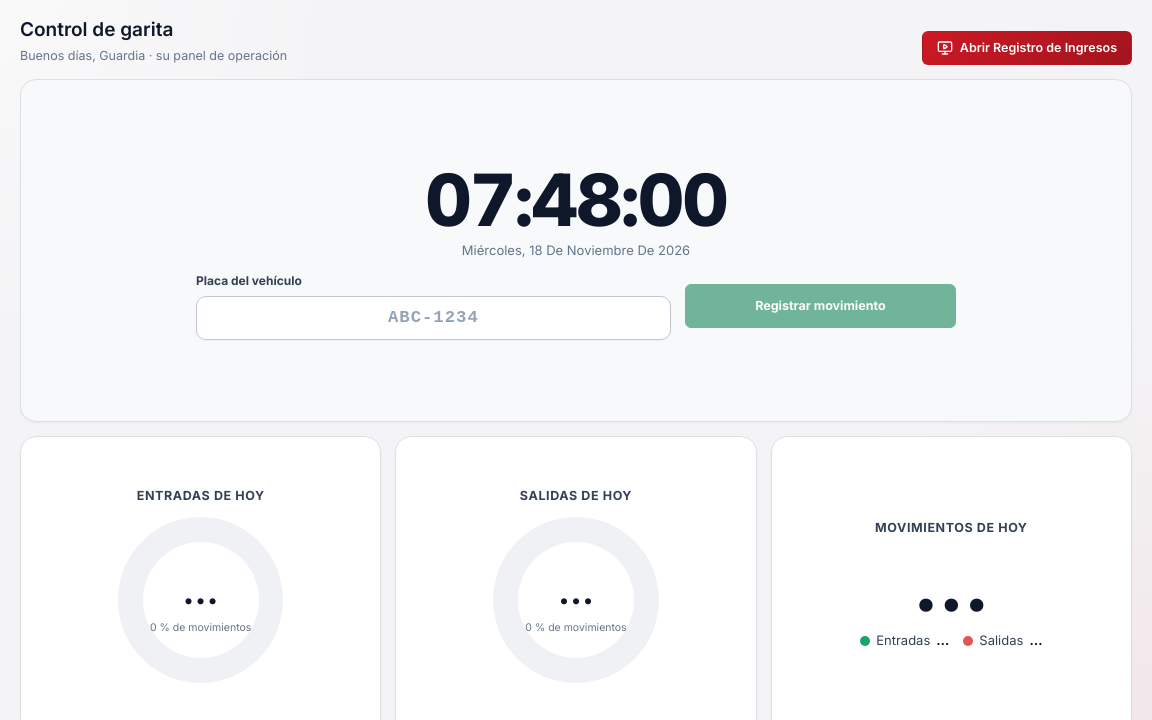
Test: el tablero rechaza cédulas y registra la placa normalizada con Enter
Type "0102030405" into the field labelled "Placa del vehículo".
click(433, 318); type("0102030405")  # box [196, 296, 671, 340]
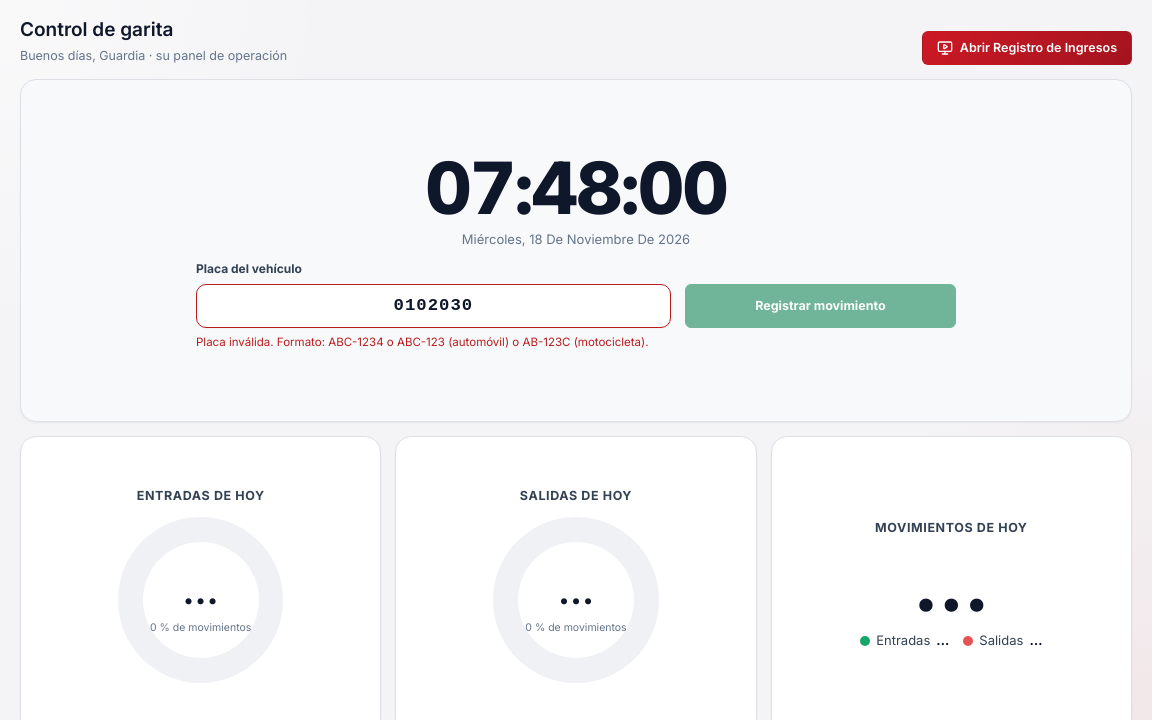
Press Enter in the field labelled "Placa del vehículo", box [196, 284, 671, 328]
Expected: the button "Registrar movimiento" is disabled, [685, 284, 956, 328]
Replace the text in the field labelled "Placa del vehículo" with "ab-123c" at (433, 306), box [196, 284, 671, 328]
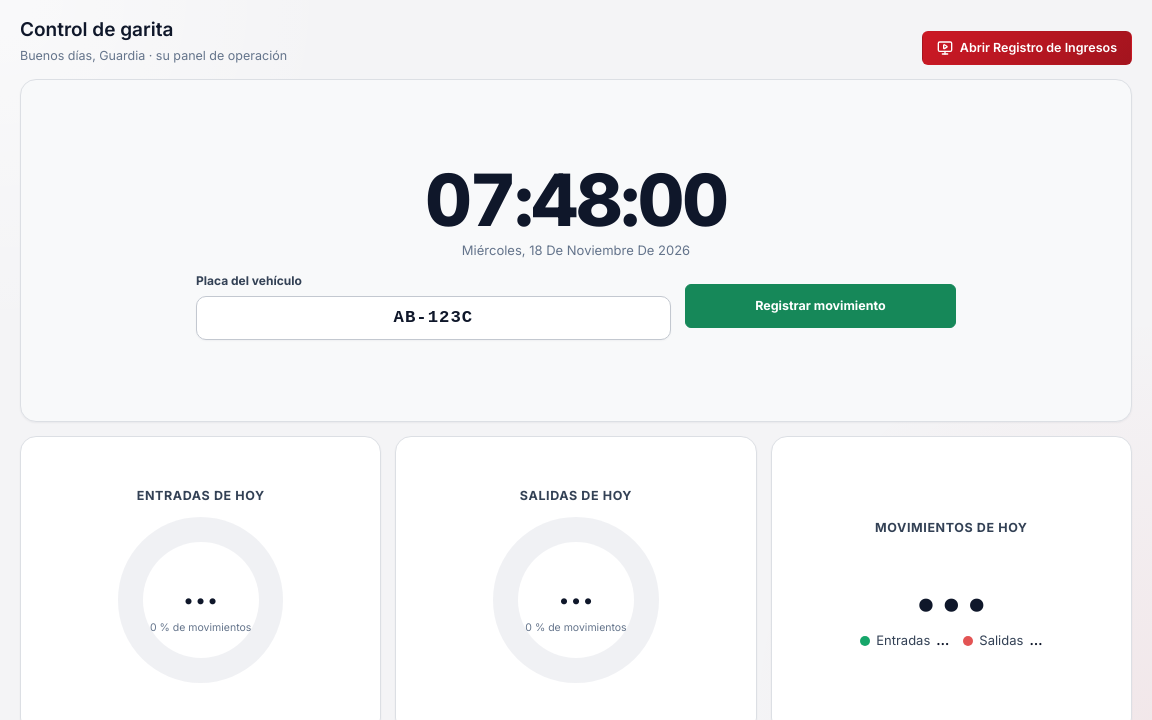
Press Enter in the field labelled "Placa del vehículo", box [196, 296, 671, 340]
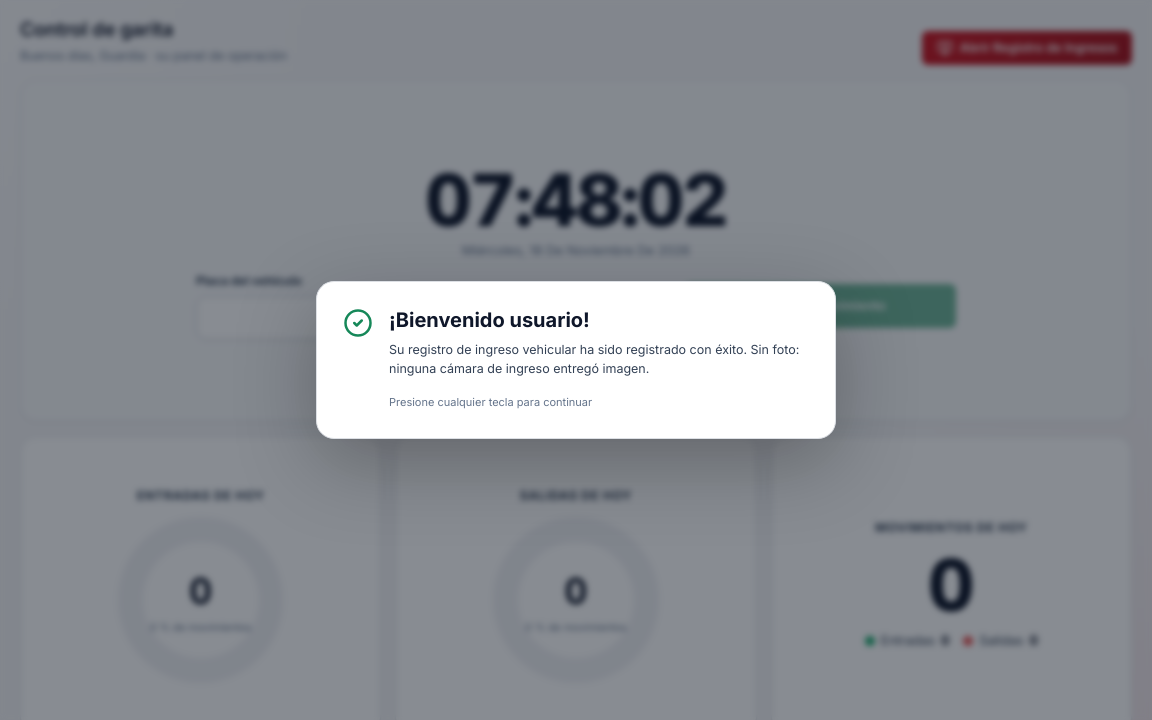
Expected: the field labelled "Placa del vehículo" is empty, [196, 296, 671, 340]
